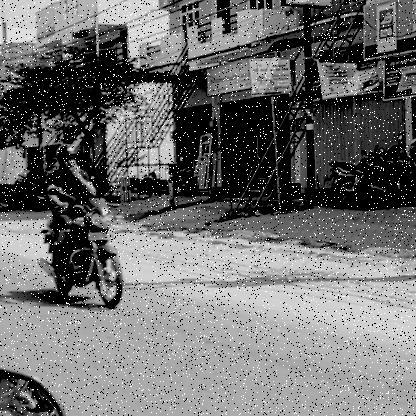motorcycle: (34, 197, 128, 314)
